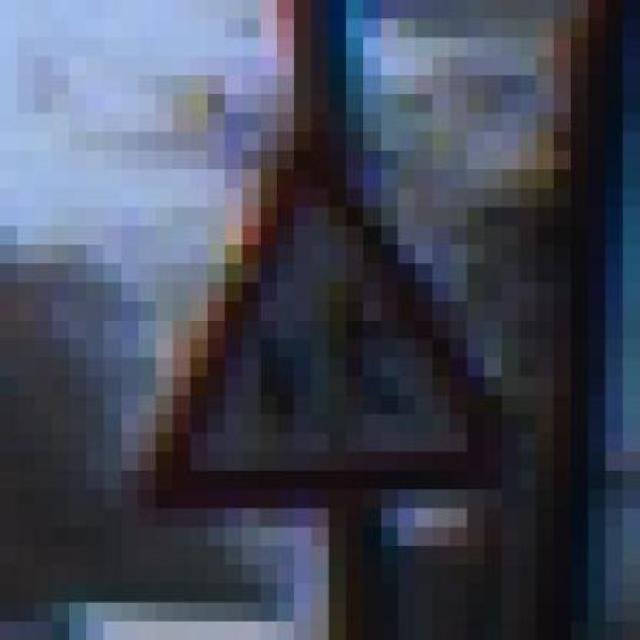Beware of children: (104, 131, 519, 527)
